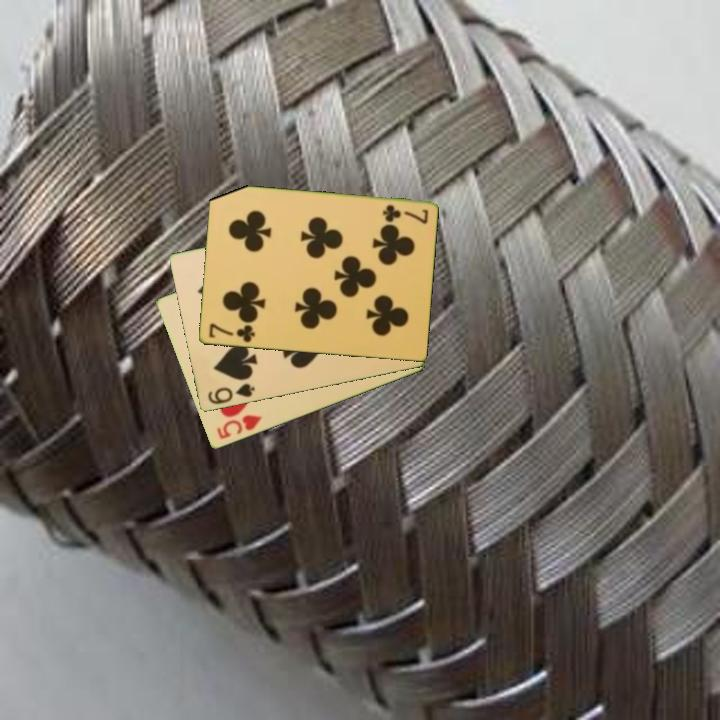5h: (213, 412, 264, 442)
6s: (204, 380, 258, 407)
7c: (205, 320, 257, 346), (379, 201, 431, 226)
